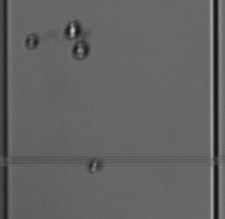Dead Cell: (71, 41, 89, 60), (24, 34, 38, 49), (87, 159, 102, 173)
Living Cell: (63, 20, 82, 39)
